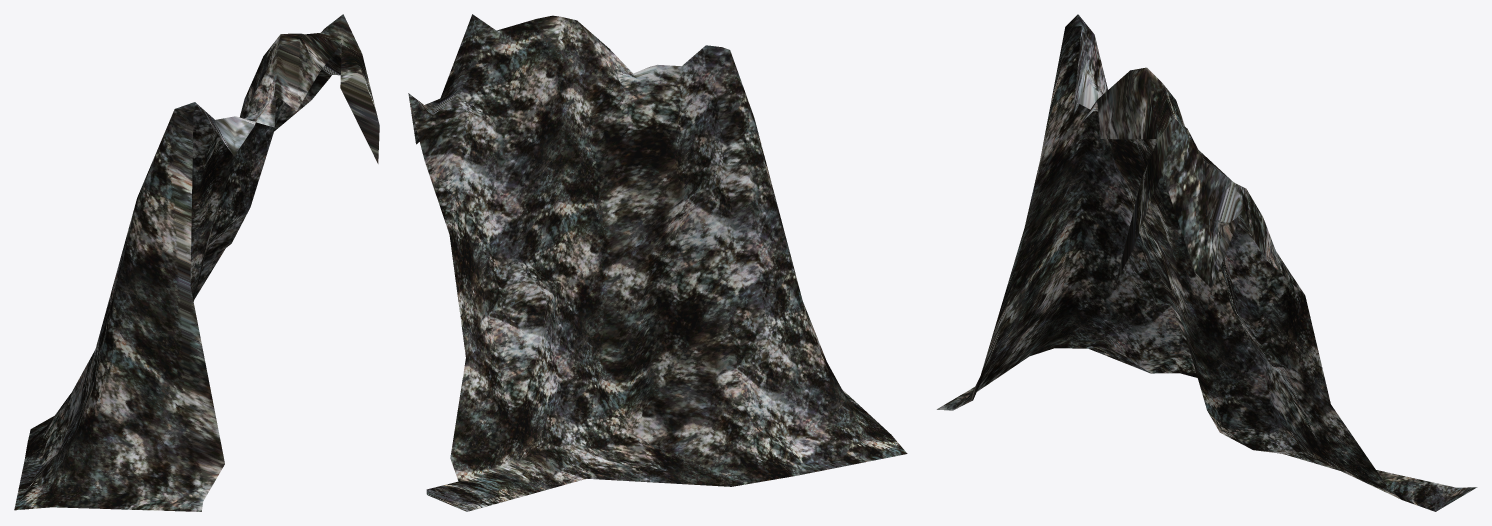
File: OVERHILL_A_01_OBJECT377.fbx
The picture shows the model from 3 angles, left to right: view 1: azimuth 30°, elevation 25°; view 2: azimuth 150°, elevation 25°; view 3: azimuth 270°, elevation 25°; orthographic projection. The views are drawn at different scales.
Parts seen in each view (by area): view 1: OVERHILL_A_01_OBJECT377; view 2: OVERHILL_A_01_OBJECT377; view 3: OVERHILL_A_01_OBJECT377.
Boxes of the visible parts, x1,y1,x2,y2 form: OVERHILL_A_01_OBJECT377: [14, 14, 379, 511]; OVERHILL_A_01_OBJECT377: [408, 14, 907, 511]; OVERHILL_A_01_OBJECT377: [937, 14, 1477, 511].
Bounding box in the file's own units: 348218 × 302177 × 333011.
1 material, 1 textured.
